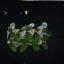leaf: (35, 23, 46, 31), (19, 43, 28, 52), (9, 42, 17, 52), (8, 22, 16, 31), (26, 22, 34, 31), (26, 32, 33, 42), (17, 38, 30, 43), (32, 43, 40, 51), (18, 25, 28, 31), (44, 30, 54, 36), (15, 31, 20, 42), (43, 34, 49, 42), (28, 40, 40, 44), (9, 31, 15, 38), (41, 22, 47, 29), (42, 43, 48, 50), (34, 32, 39, 40)
